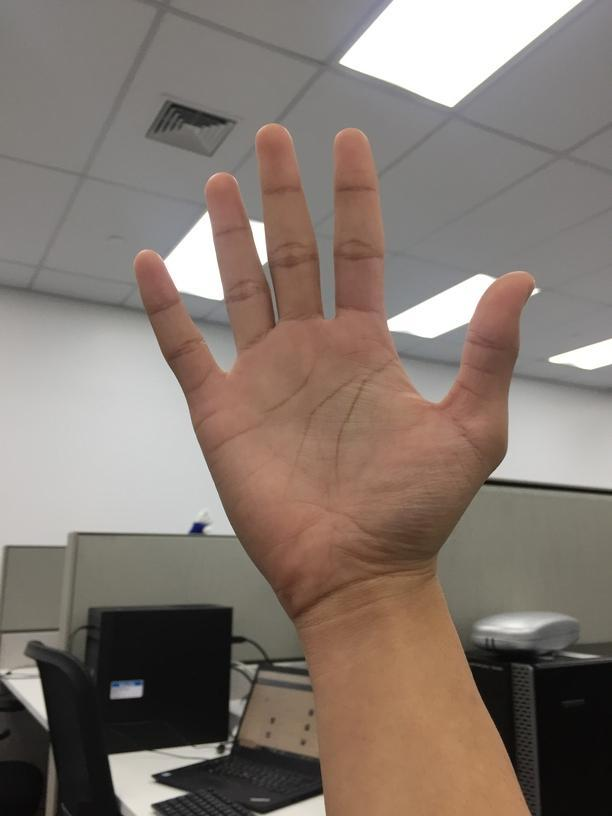hand: (137, 122, 537, 602)
